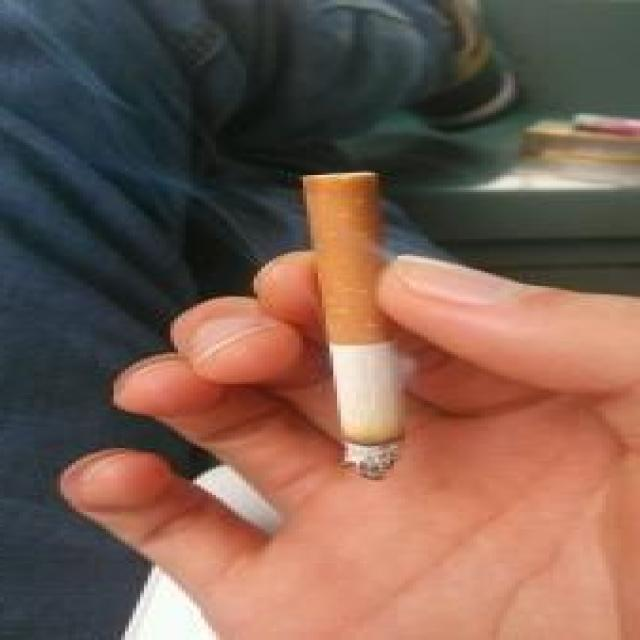smoking: (296, 170, 411, 485)
